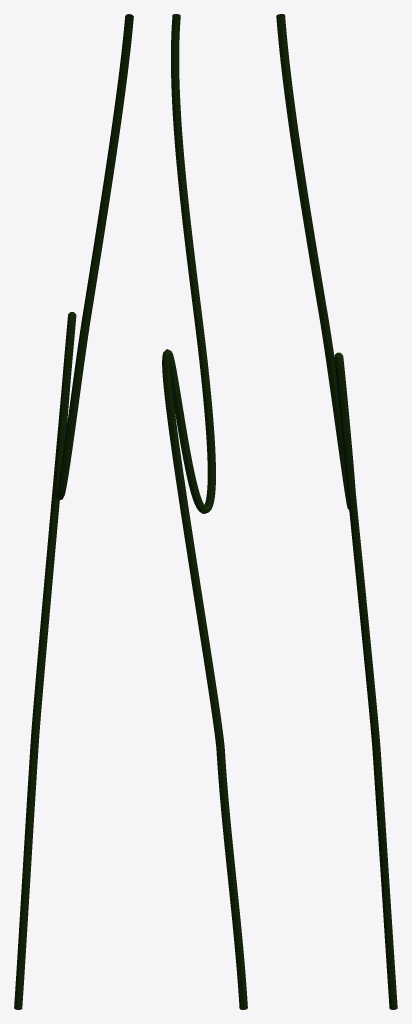
Rendered from Pnącze3.fbx.
3 renders of one model, left to right at view 1: azimuth 90°, elevation 25°; view 2: azimuth 210°, elevation 25°; view 3: azimuth 270°, elevation 25°, orthographic. The views are drawn at different scales.
Parts seen in each view (by area): view 1: BezierCurve.004; view 2: BezierCurve.004; view 3: BezierCurve.004.
Part boxes in pixels (bbox=[...]): BezierCurve.004: bbox=[14, 14, 133, 1009]; BezierCurve.004: bbox=[162, 14, 247, 1009]; BezierCurve.004: bbox=[276, 14, 397, 1009].
Bounding box in the file's own units: 0.7517 × 11.76 × 1.29.
